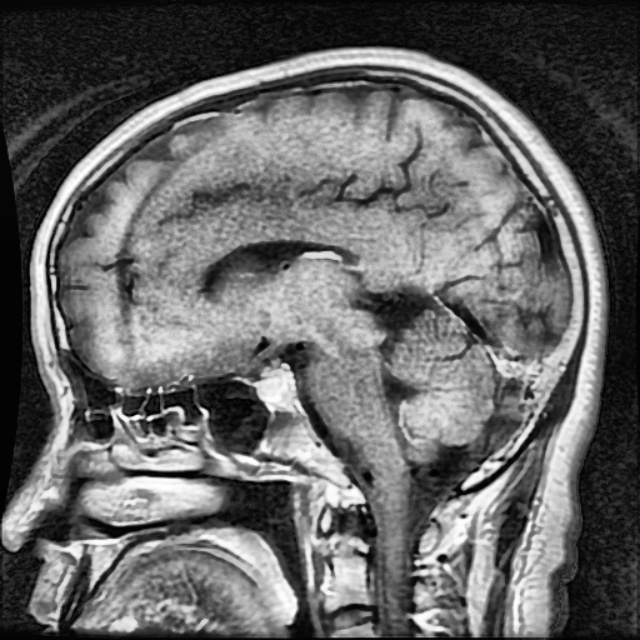Pituitary: (255, 372, 293, 400)
